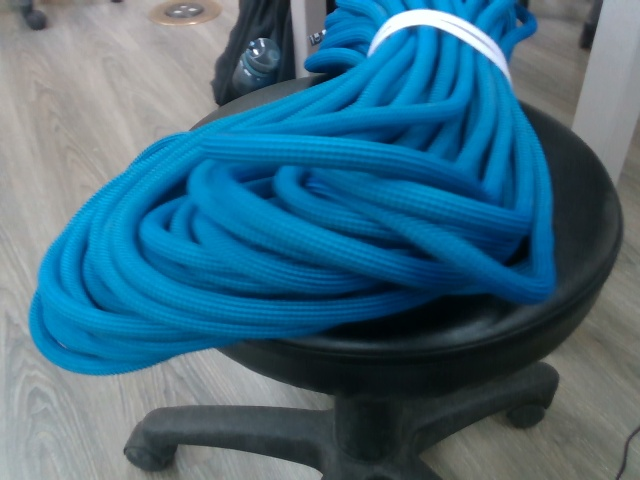rope: (23, 1, 564, 377)
